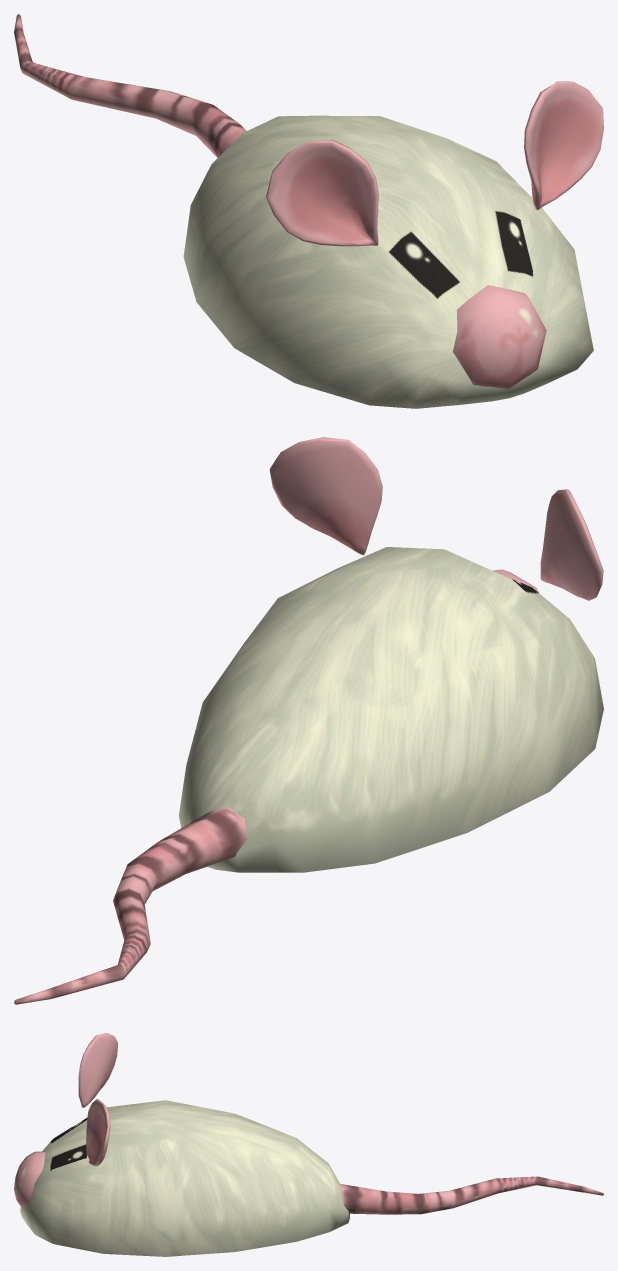
Rendered from assrt_mouse_v03.fbx.
3 renders of one model, top to bottom at view 1: azimuth 30°, elevation 25°; view 2: azimuth 150°, elevation 25°; view 3: azimuth 270°, elevation 25°, orthographic. The views are drawn at different scales.
Visible parts, largest first — view 1: go_mouse01; view 2: go_mouse01; view 3: go_mouse01.
Part boxes in pixels (x1=…): go_mouse01: x1=14, y1=14, x2=603, y2=408; go_mouse01: x1=14, y1=437, x2=603, y2=1004; go_mouse01: x1=14, y1=1033, x2=603, y2=1256.
Bounding box in the file's own units: 424 × 305 × 1099.
